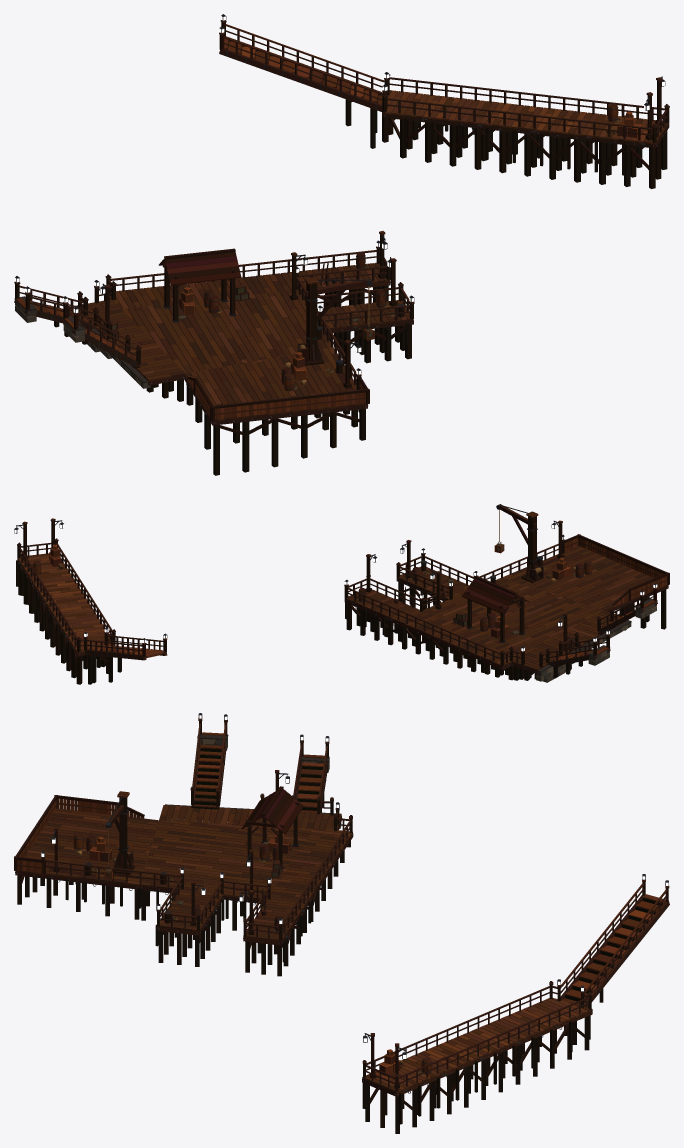
Rendered from wickharbor_harbor.glb.
3 views of the same model, one above another, from view 1: azimuth 30°, elevation 25°; view 2: azimuth 150°, elevation 25°; view 3: azimuth 270°, elevation 25° (orthographic). The views are drawn at different scales.
Parts seen in each view (by area): view 1: HarborDecks, HarborFrame, HarborRails, HarborCargo, HarborStairs, HarborLanterns, HarborTrim, HarborClutter; view 2: HarborDecks, HarborFrame, HarborRails, HarborCargo, HarborStairs, HarborLanterns, HarborTrim, HarborClutter; view 3: HarborDecks, HarborFrame, HarborRails, HarborStairs, HarborCargo, HarborTrim, HarborLanterns.
Part boxes in pixels (x1,y1,x2,y2): HarborDecks: (75, 90, 668, 421); HarborFrame: (70, 112, 669, 475); HarborRails: (14, 20, 669, 389); HarborCargo: (158, 103, 641, 391); HarborStairs: (14, 36, 382, 368); HarborLanterns: (15, 14, 665, 388); HarborTrim: (51, 51, 669, 423); HarborClutter: (106, 111, 632, 389); HarborDecks: (17, 546, 667, 670); HarborFrame: (17, 534, 669, 684); HarborRails: (17, 538, 657, 666); HarborCargo: (32, 504, 592, 643); HarborStairs: (85, 598, 657, 684); HarborLanterns: (14, 518, 657, 651); HarborTrim: (16, 560, 667, 672); HarborClutter: (53, 544, 584, 648); HarborDecks: (15, 805, 592, 1092); HarborFrame: (14, 795, 592, 1133); HarborRails: (41, 718, 669, 1091); HarborStairs: (191, 732, 669, 1039); HarborCargo: (73, 786, 431, 1075); HarborTrim: (15, 760, 666, 1124); HarborLanterns: (41, 713, 669, 1088).
Size of the model in its own units: 68.62 by 13.41 by 58.96.
